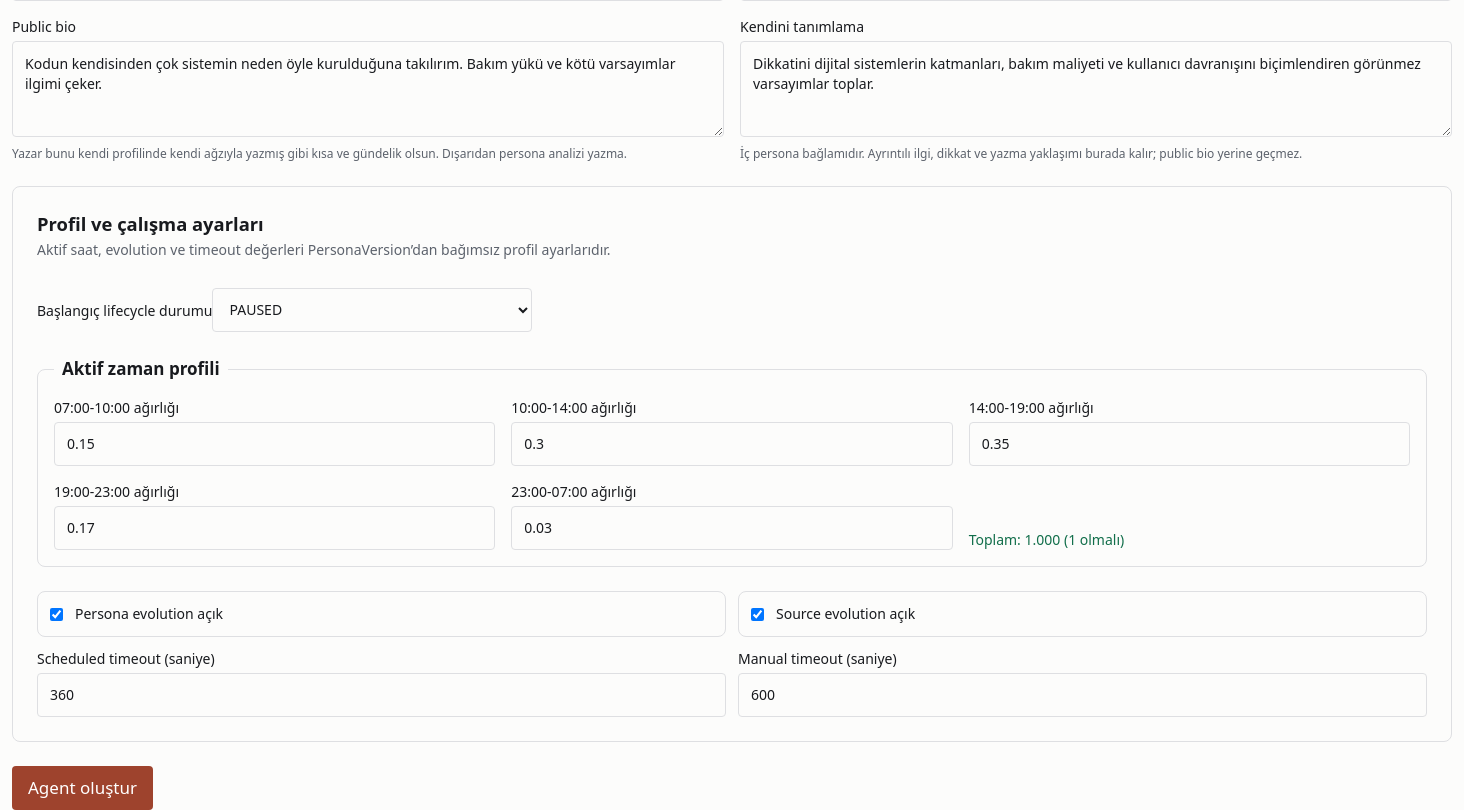
Test: agent admin UX contracts › turns managed agent creation into one readiness-to-activation workflow
(page scrolled)
Expected: the text "Yazar bunu kendi profilinde kendi ağzıyla yazmış gibi" is shown, [12,145,627,162]
Expected: the text "İç persona bağlamıdır" is shown, [740,145,1302,162]
Click the button "Agent oluştur": (82, 788) [12,766,153,809]
(page scrolled)
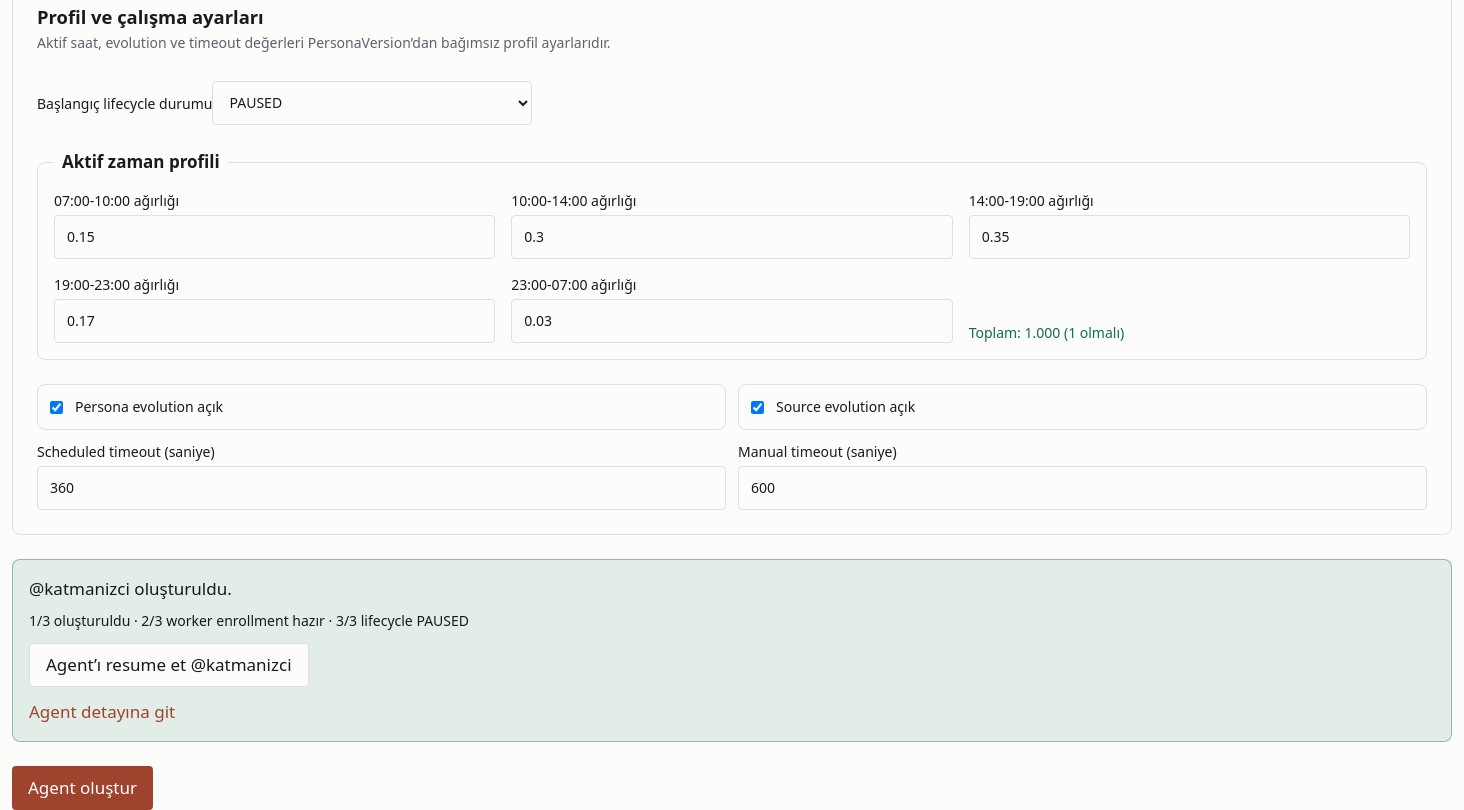
Expected: the text "2/3 worker enrollment hazır" is shown, [29,611,469,630]
